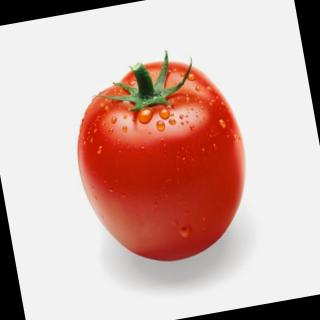Tomat: (58, 39, 269, 281)
